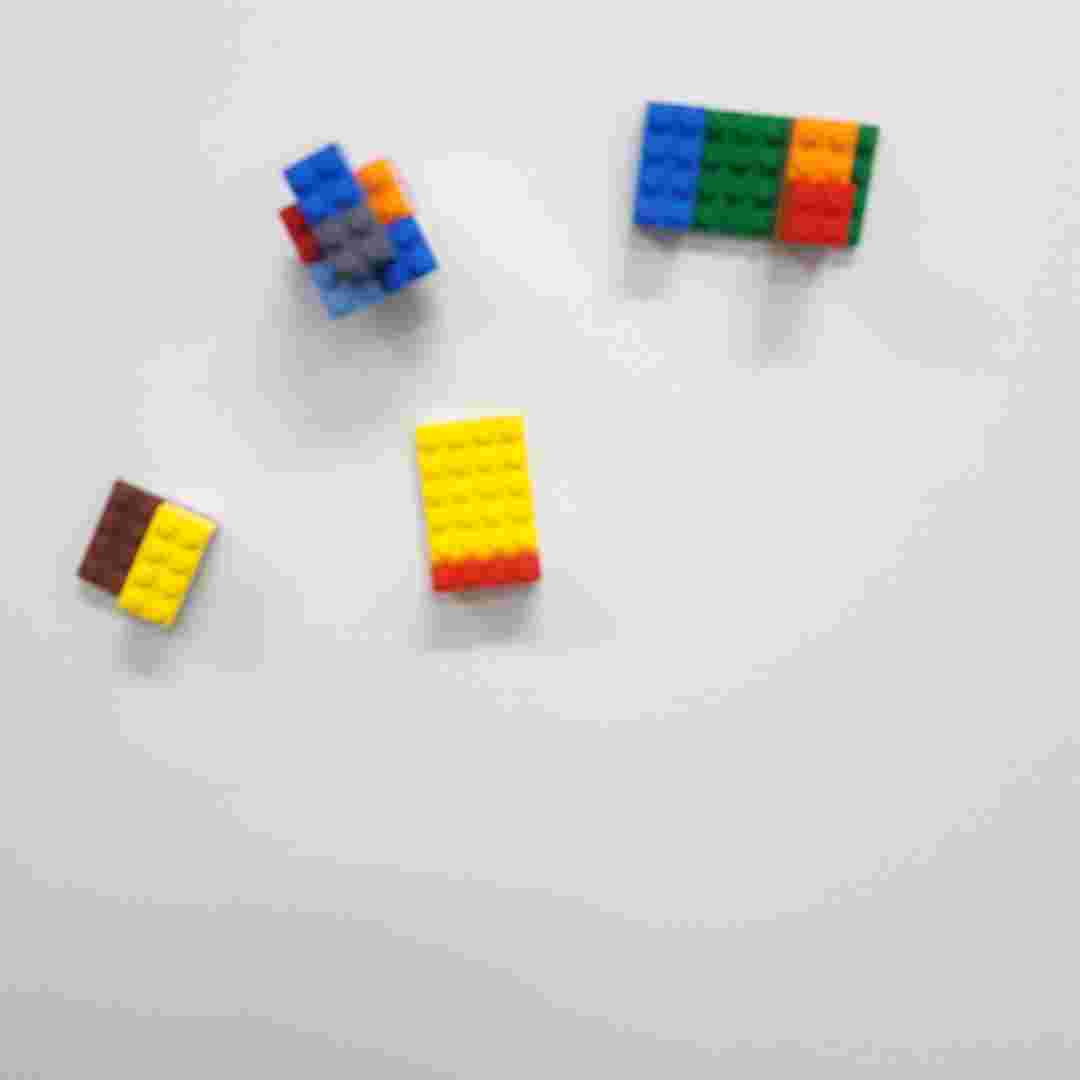LEGO: (635, 98, 881, 250), (277, 138, 446, 319), (412, 412, 549, 596), (72, 477, 224, 630)
